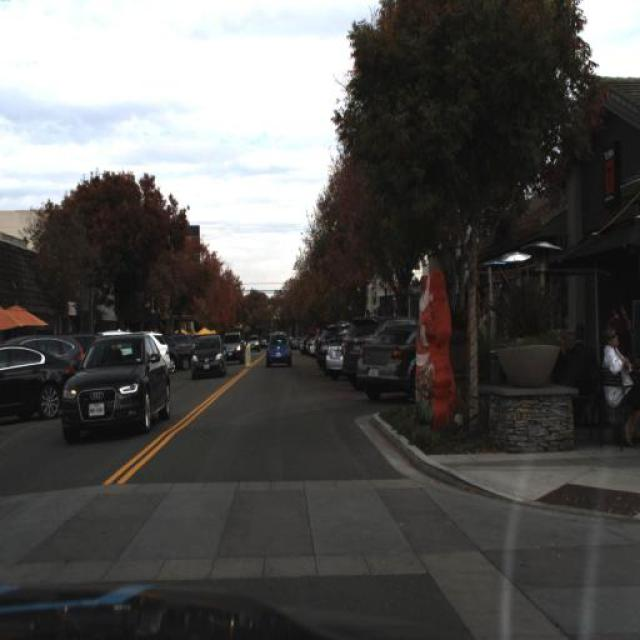car: (56, 330, 172, 436), (0, 342, 74, 423), (357, 317, 419, 393), (188, 333, 228, 378), (263, 328, 296, 368), (223, 324, 244, 364)
trafficLight: (599, 317, 640, 448), (339, 312, 371, 388)
